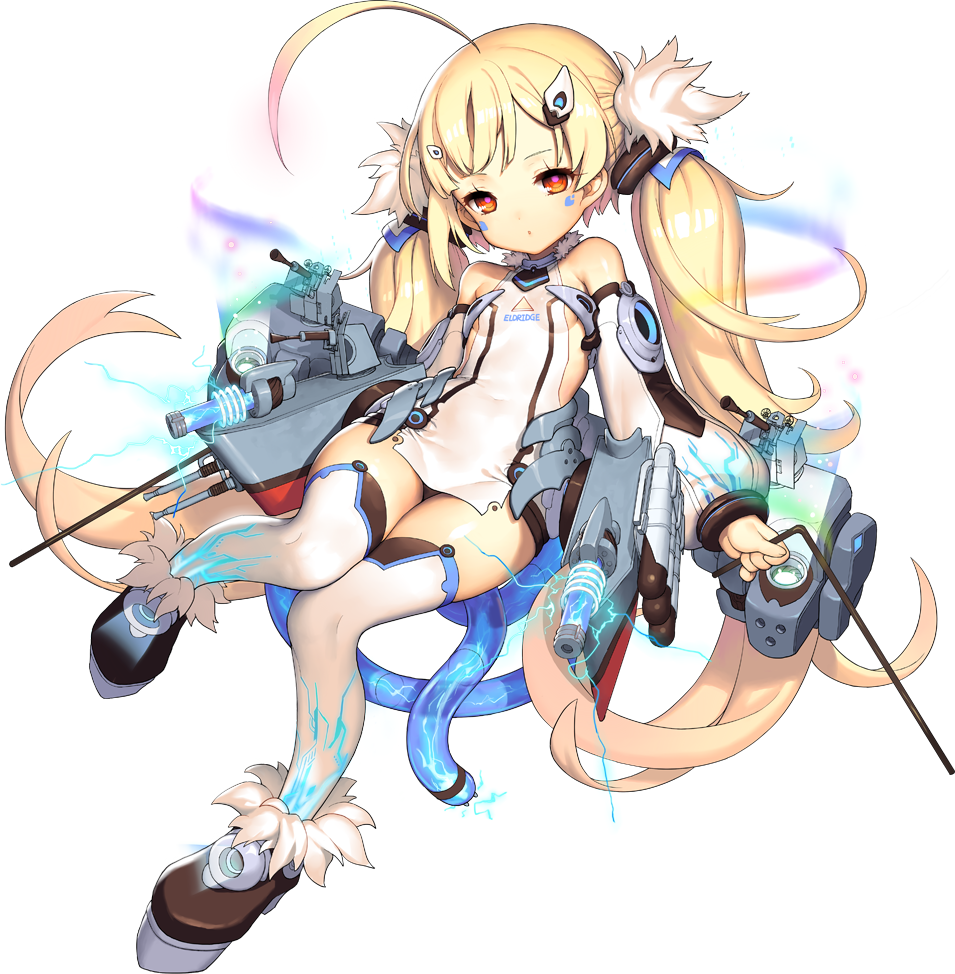person: (156, 1, 659, 825)
